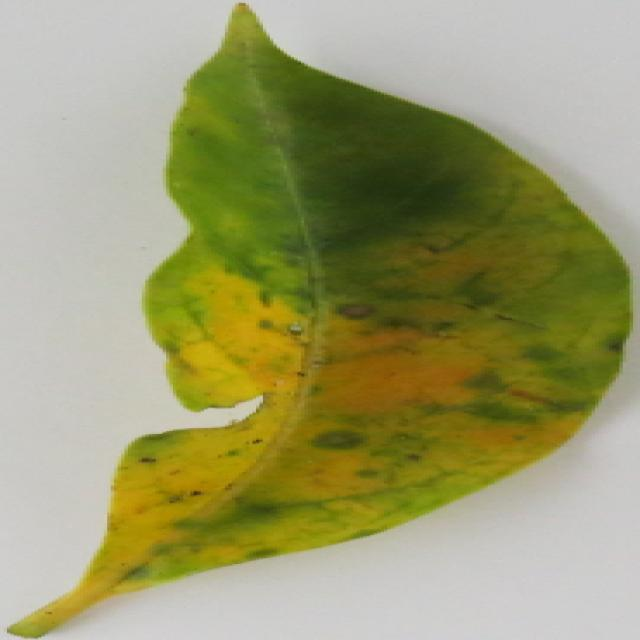DeficienciaNutricional-Fosforo: (9, 5, 627, 637)
